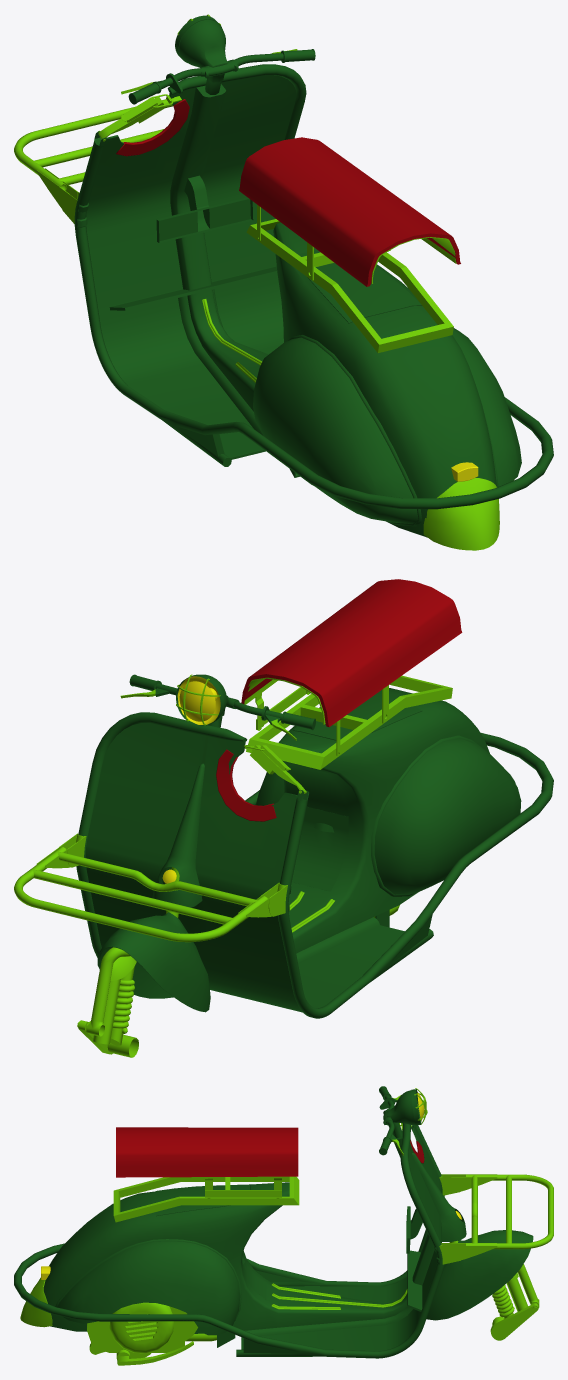
The model's file is AM2_Vesper3_backup.fbx.
3 renders of one model, top to bottom at view 1: azimuth 30°, elevation 25°; view 2: azimuth 150°, elevation 25°; view 3: azimuth 270°, elevation 25°, orthographic. The views are drawn at different scales.
Visible parts, largest first — view 1: body_engineHatch_lp, body_barrelHolder_lp, seatFrame3_lp; view 2: body_engineHatch_lp, seatFrame3_lp, body_barrelHolder_lp, rearLight_interior; view 3: body_engineHatch_lp, seatFrame3_lp, body_barrelHolder_lp.
Part boxes in pixels (left/top/right/bottom): body_engineHatch_lp: left=74, top=15, right=553, bottom=537; body_barrelHolder_lp: left=116, top=99, right=460, bottom=286; seatFrame3_lp: left=14, top=14, right=499, bottom=550; body_engineHatch_lp: left=76, top=674, right=553, bottom=1018; seatFrame3_lp: left=14, top=674, right=452, bottom=1057; body_barrelHolder_lp: left=216, top=579, right=462, bottom=821; rearLight_interior: left=162, top=676, right=220, bottom=883; body_engineHatch_lp: left=14, top=1086, right=533, bottom=1358; seatFrame3_lp: left=20, top=1088, right=553, bottom=1365; body_barrelHolder_lp: left=116, top=1127, right=424, bottom=1177.
Size of the model in its own units: 51.85 by 77.3 by 151.
